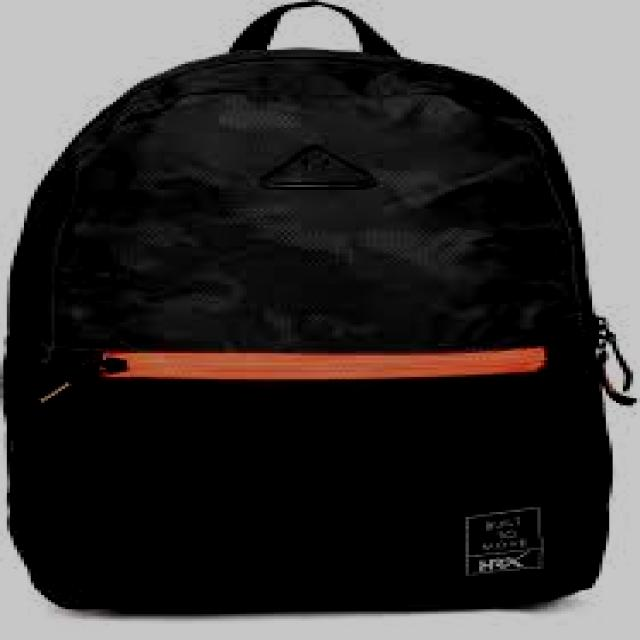backpack: (2, 1, 638, 613)
